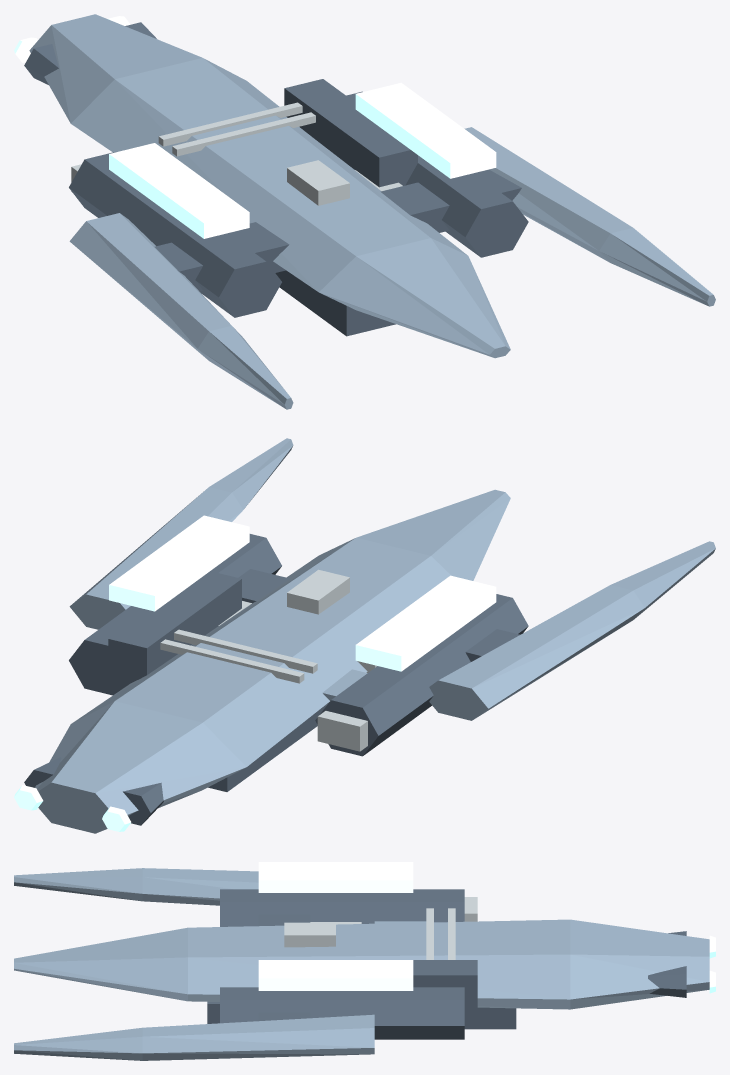
3 views of the same model, one above another, from view 1: azimuth 30°, elevation 25°; view 2: azimuth 150°, elevation 25°; view 3: azimuth 270°, elevation 25° (orthographic). The views are drawn at different scales.
Size of the model in its own units: 5.94 by 1.49 by 9.92.
